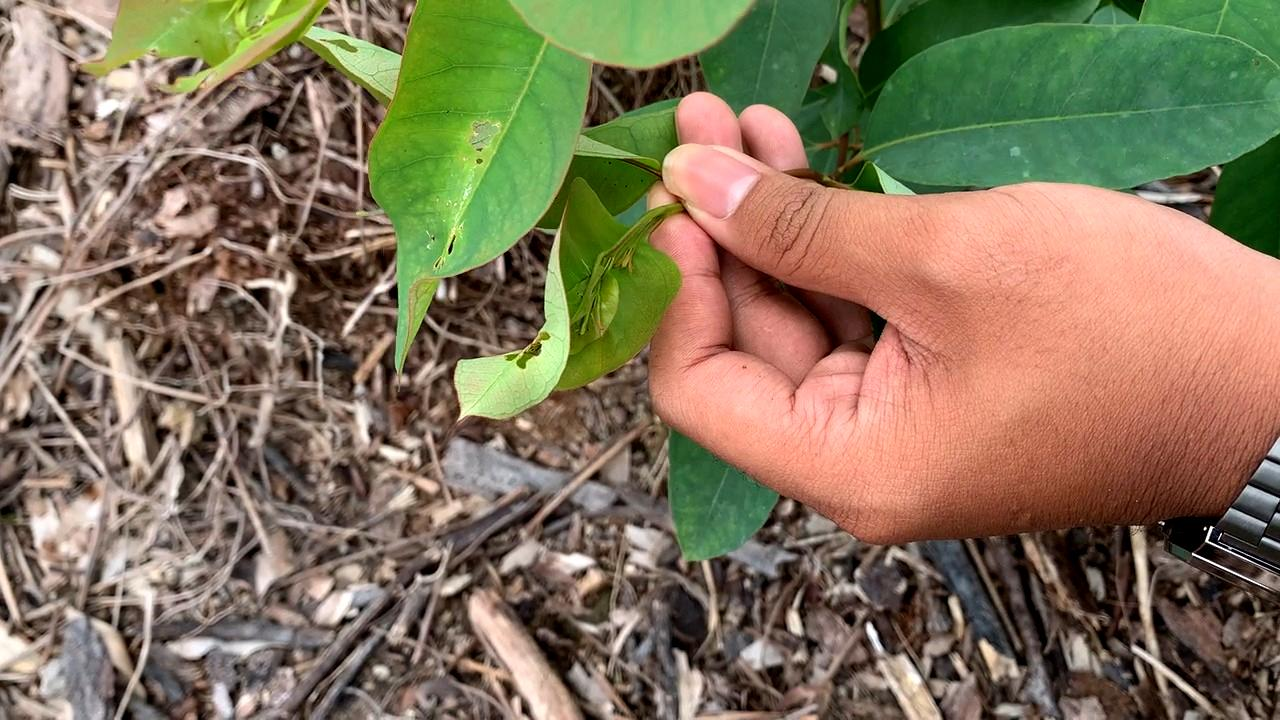Leaf Roller - Leaf: (446, 219, 650, 448)
